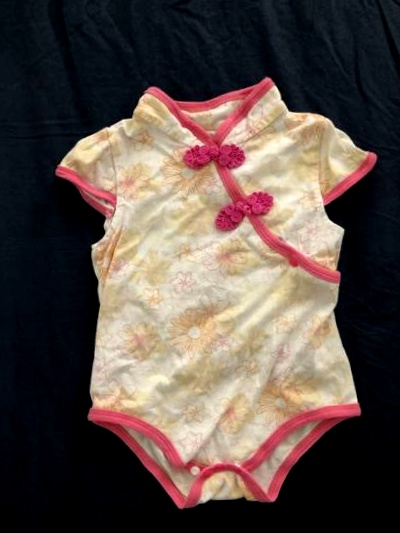Body: (44, 59, 398, 519)
